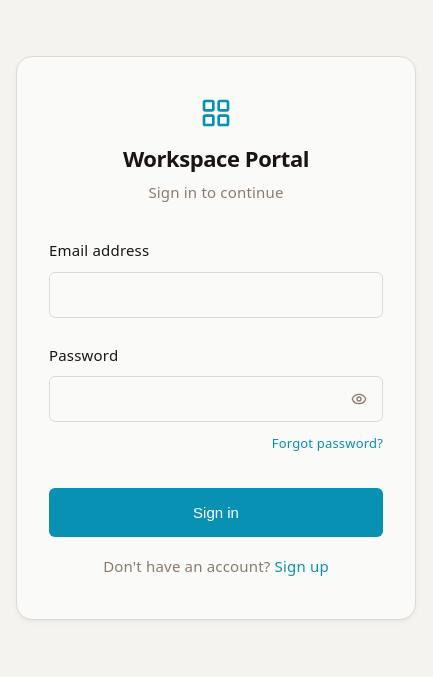
Test: LoginPage User Flows › displays client-side validation errors when submitting blank fields
Click the button "Sign in": (216, 512) [49,488,383,537]
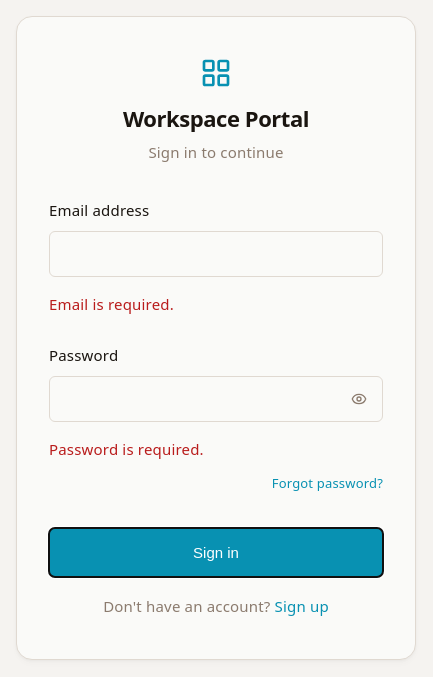
Expected: the text "Email is required." is shown, [49,294,174,314]
Expected: the text "Password is required." is shown, [49,439,204,459]
